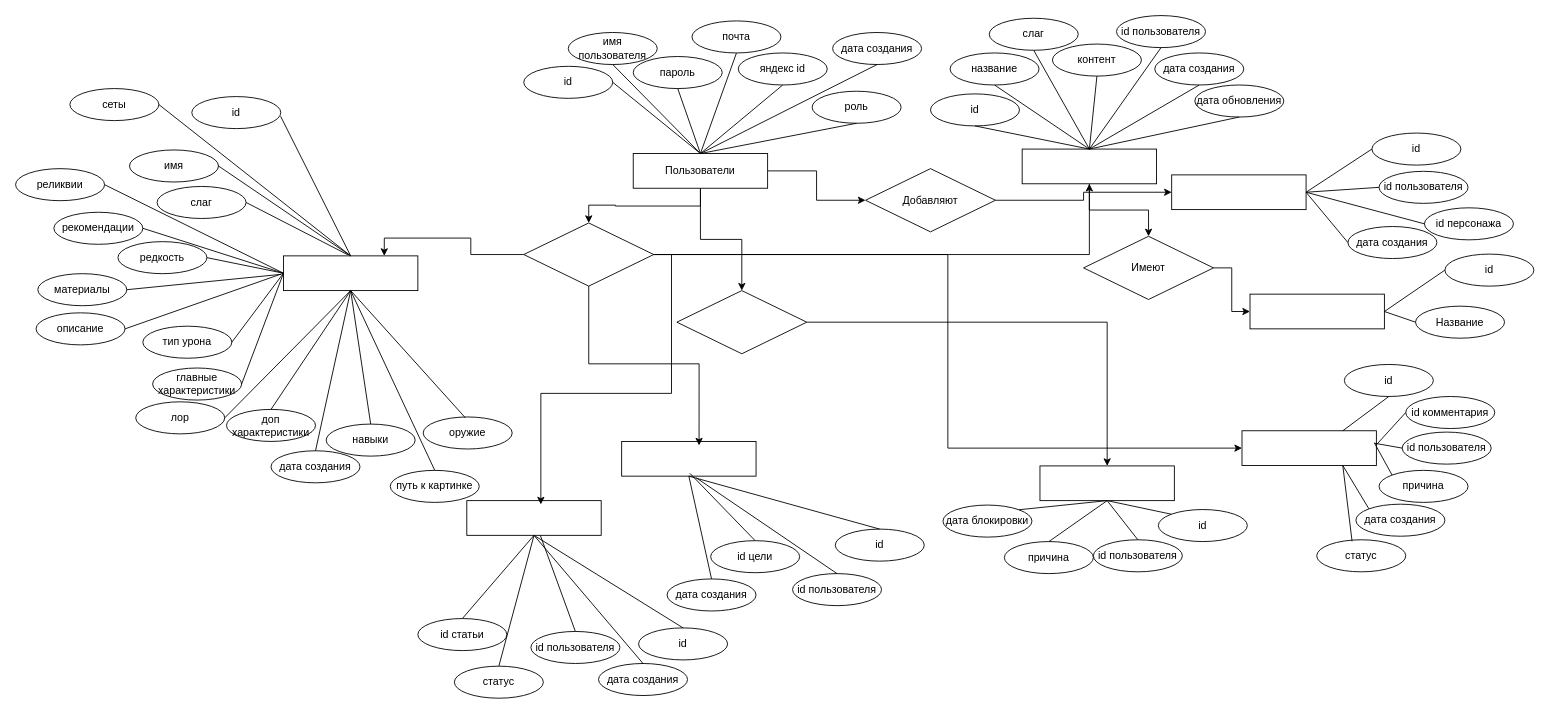
Image size: 1549x714. Some labels were removed from this diagram. Each missing label, with the centre of its shape:
Жалобы на комментарии: [1308,447]
Заблокированные: [1106,483]
Избранное: [1238,192]
Комментарии: [533,517]
Отправляются в: [741,322]
Оценки: [688,458]
Персонажи: [350,273]
Создают: [588,254]
Статьи: [1089,166]
Тэги: [1316,311]
